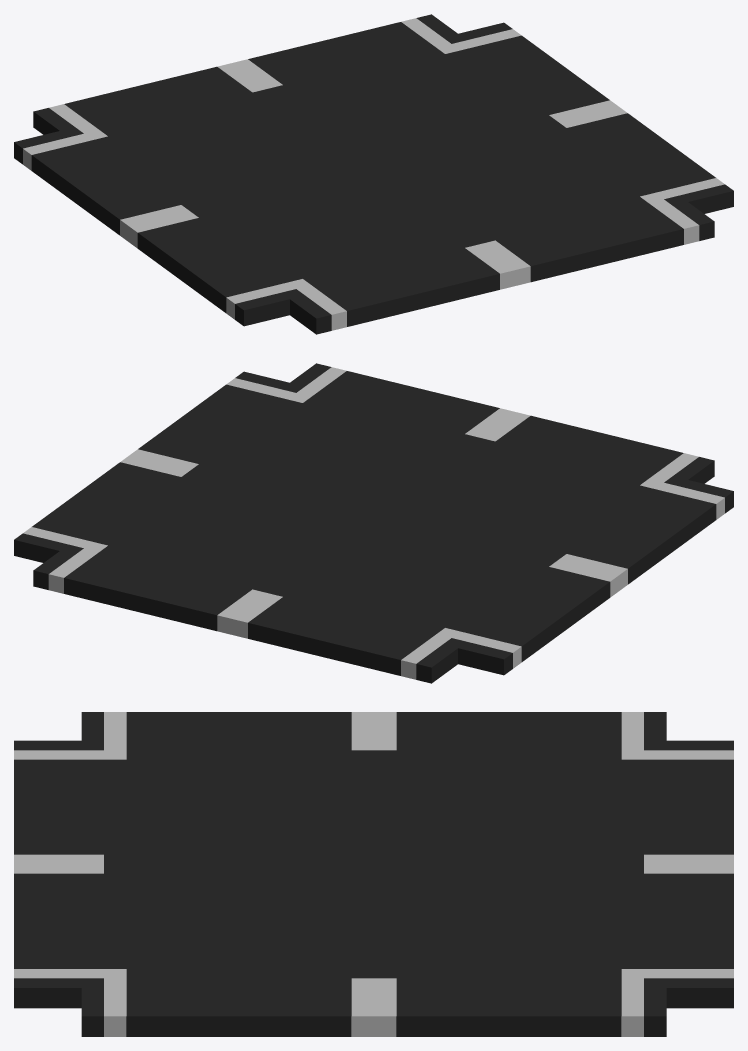
The model's file is road-edgy-4-way-crossing-1.gltf.
The picture shows the model from 3 angles, top to bottom: view 1: azimuth 30°, elevation 25°; view 2: azimuth 150°, elevation 25°; view 3: azimuth 270°, elevation 25°; orthographic projection. The views are drawn at different scales.
Visible parts, largest first — view 1: road-edgy-4-way-crossing-1; view 2: road-edgy-4-way-crossing-1; view 3: road-edgy-4-way-crossing-1.
Part boxes in pixels (x1=…): road-edgy-4-way-crossing-1: x1=14, y1=14, x2=733, y2=334; road-edgy-4-way-crossing-1: x1=14, y1=363, x2=733, y2=683; road-edgy-4-way-crossing-1: x1=14, y1=712, x2=733, y2=1036.
Bounding box in the file's own units: 3.2 × 0.1 × 3.2.
Materials: 1 (1 with a texture image).
